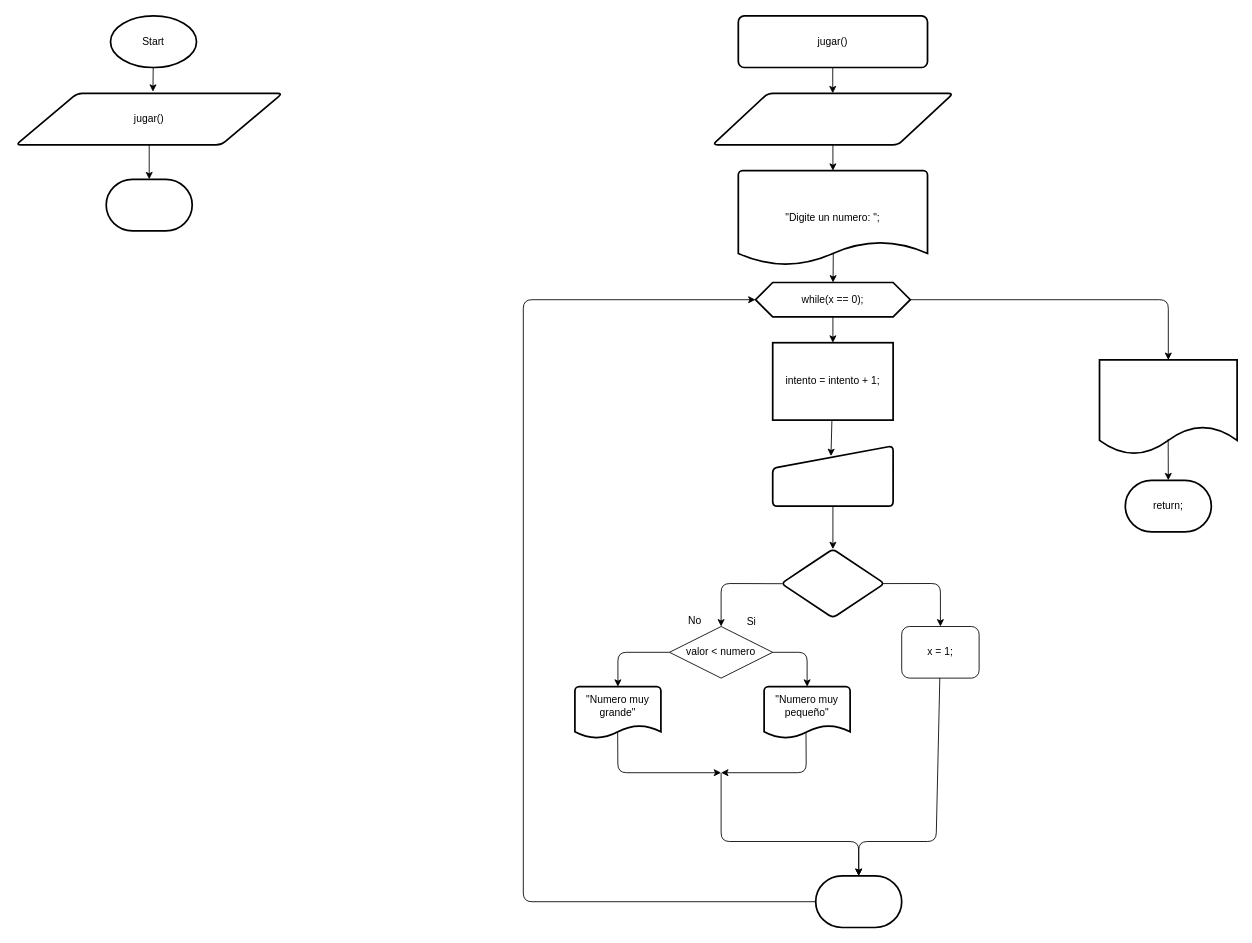
This 1252x943 diagram has some shape labels left out. The shapes that lost their labels are listed below. From the top down, each one's centre as x and y in pixels, then its label:
point (832, 118): int numero = 0, intento = 0, x = 0 valor = 0;
point (149, 204): End
point (1168, 407): "Feliciades, numero adivinado , Intentos: " + intento;
point (832, 476): valor
point (832, 583): valor = numero;
point (858, 901): next
